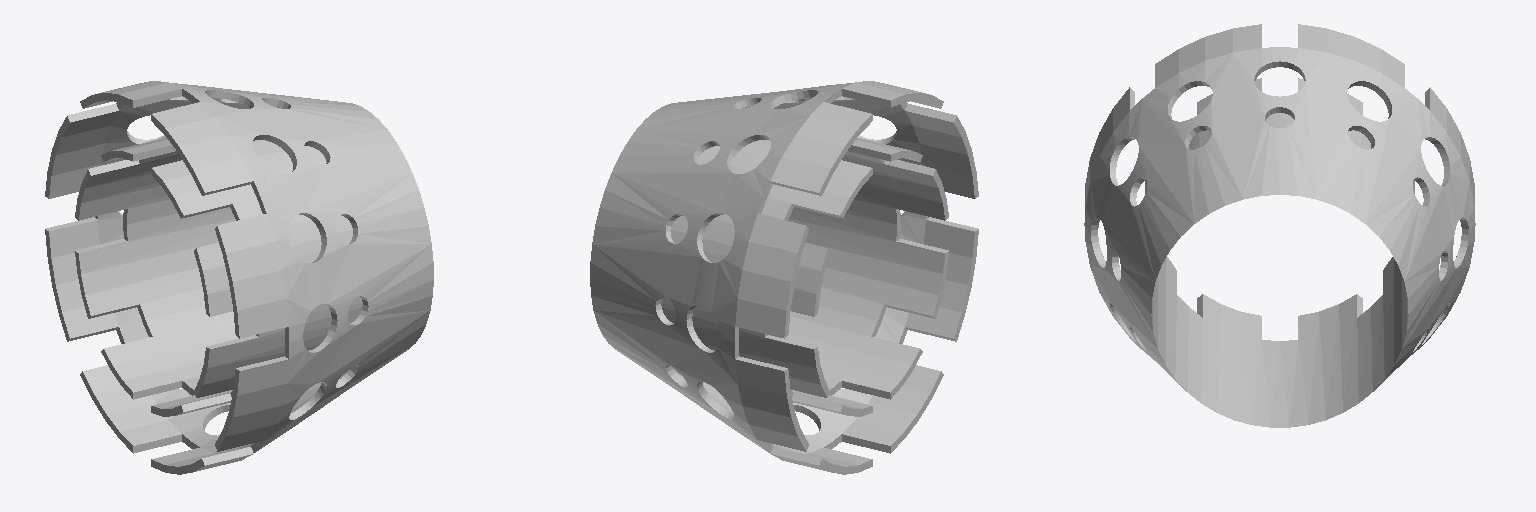
File: Burning camera.obj
The picture shows the model from 3 angles: view 1: azimuth 30°, elevation 25°; view 2: azimuth 150°, elevation 25°; view 3: azimuth 270°, elevation 25°; orthographic projection.
Visible parts, largest first — view 1: Камера_сгорания; view 2: Камера_сгорания; view 3: Камера_сгорания.
Boxes of the visible parts, x1,y1,x2,y2 form: Камера_сгорания: [45, 81, 433, 474]; Камера_сгорания: [590, 81, 978, 474]; Камера_сгорания: [1084, 24, 1475, 427].
Bounding box in the file's own units: 51 × 76 × 76.